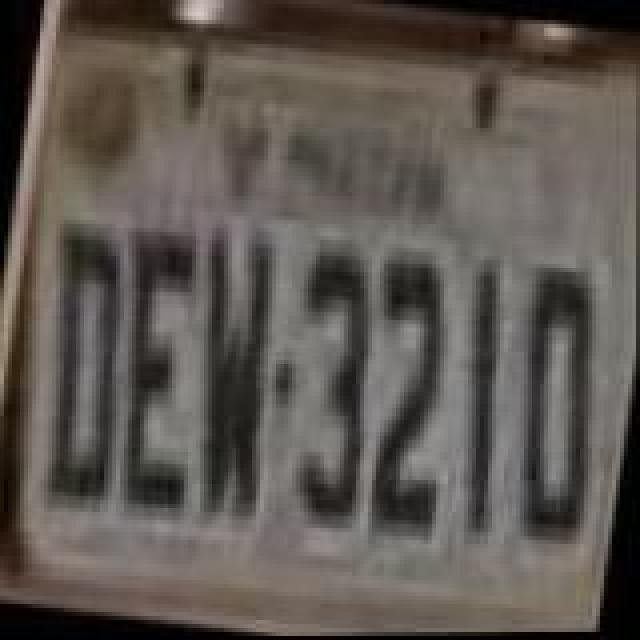1: (436, 252, 532, 548)
2: (344, 250, 472, 550)
3: (270, 234, 394, 526)
D: (20, 218, 148, 514)
E: (88, 218, 224, 518)
O: (494, 258, 618, 546)
W: (170, 222, 302, 530)
